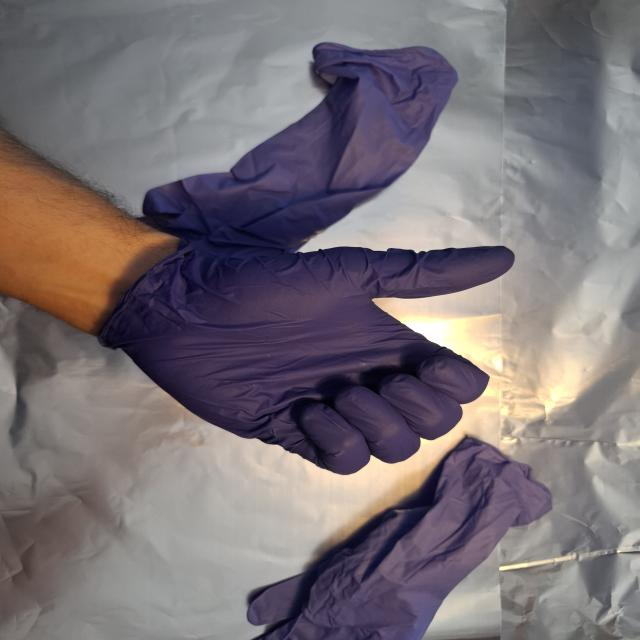glove_on: (92, 232, 522, 480)
